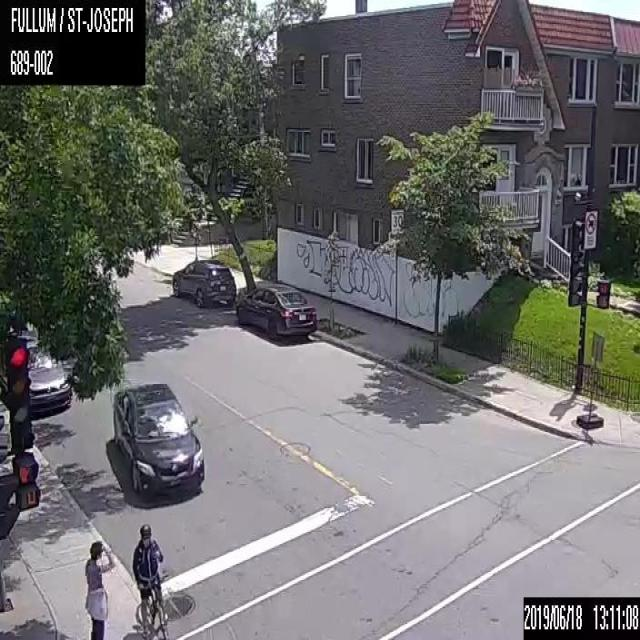construction: (576, 330, 603, 429)
cyclist: (130, 521, 169, 639)
pedestrian: (84, 538, 116, 638)
vehicle: (112, 380, 205, 497), (235, 283, 318, 341), (27, 329, 73, 416), (172, 259, 236, 308), (0, 340, 7, 402), (155, 632, 163, 639)
